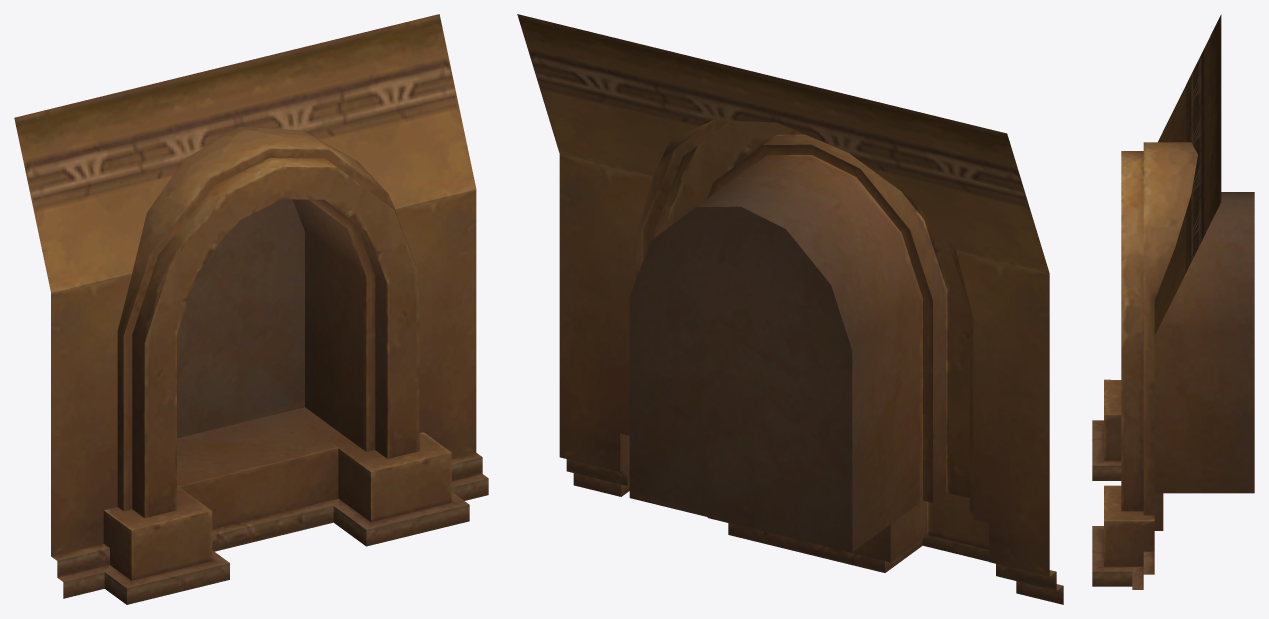
Rendered from shakian_cliff_base4_wall02_01.FBX.
3 renders of one model, left to right at view 1: azimuth 30°, elevation 25°; view 2: azimuth 150°, elevation 25°; view 3: azimuth 270°, elevation 25°, orthographic. The views are drawn at different scales.
Visible parts, largest first — view 1: shakian_cliff_base4_wall02_01; view 2: shakian_cliff_base4_wall02_01; view 3: shakian_cliff_base4_wall02_01.
Boxes of the visible parts, x1,y1,x2,y2 form: shakian_cliff_base4_wall02_01: (14,14,488,604); shakian_cliff_base4_wall02_01: (517,14,1063,604); shakian_cliff_base4_wall02_01: (1092,14,1254,589).
Size of the model in its own units: 4 by 4 by 1.46.
